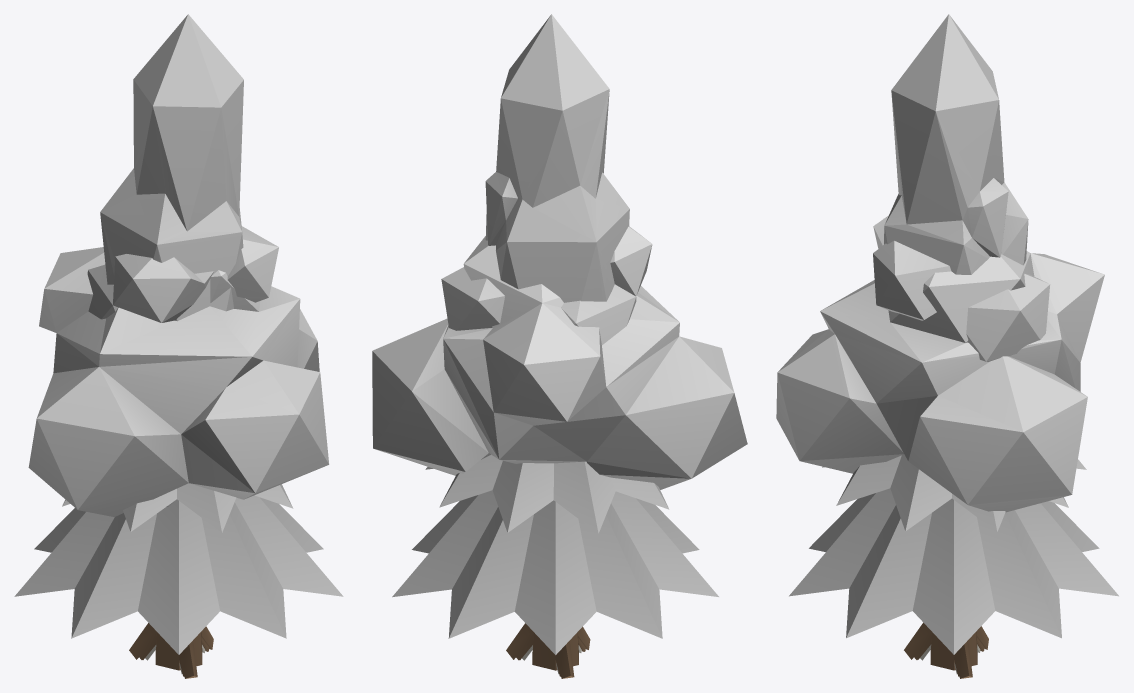
File: trees.glb
3 renders of one model, left to right at view 1: azimuth 30°, elevation 25°; view 2: azimuth 150°, elevation 25°; view 3: azimuth 270°, elevation 25°, orthographic.
Parts seen in each view (by area): view 1: TreeBroadleaf, TreeConifer, TreePoplar, TreeBirch; view 2: TreeBroadleaf, TreeConifer, TreePoplar, TreeBirch; view 3: TreeBroadleaf, TreeConifer, TreePoplar, TreeBirch.
Part boxes in pixels (<box>): TreeBroadleaf: <box>28,247,329,678</box>; TreeConifer: <box>14,483,343,676</box>; TreePoplar: <box>100,14,243,674</box>; TreeBirch: <box>87,226,278,673</box>; TreeBroadleaf: <box>372,236,747,678</box>; TreeConifer: <box>392,454,718,676</box>; TreePoplar: <box>485,14,629,675</box>; TreeBirch: <box>441,226,652,674</box>; TreeBroadleaf: <box>776,251,1104,678</box>; TreeConifer: <box>789,454,1118,676</box>; TreePoplar: <box>884,14,1028,675</box>; TreeBirch: <box>873,215,1050,673</box>.
Size of the model in its own units: 2.79 by 5.55 by 2.65.
